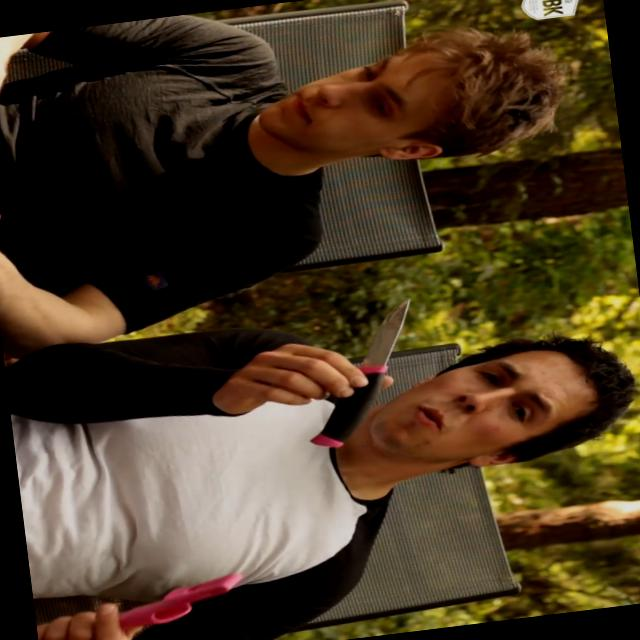knife: (280, 293, 434, 456)
